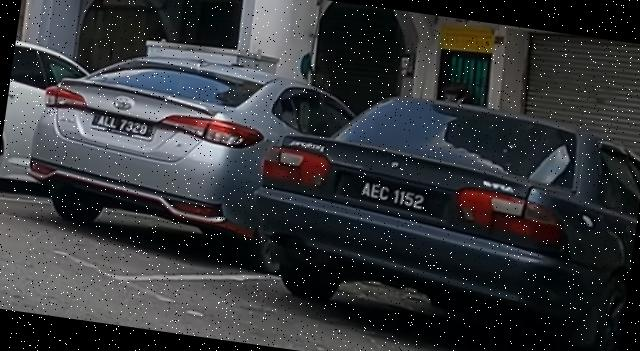License_Plate: (353, 179, 432, 216), (89, 110, 157, 141)
car: (236, 75, 640, 351), (18, 35, 363, 282)
